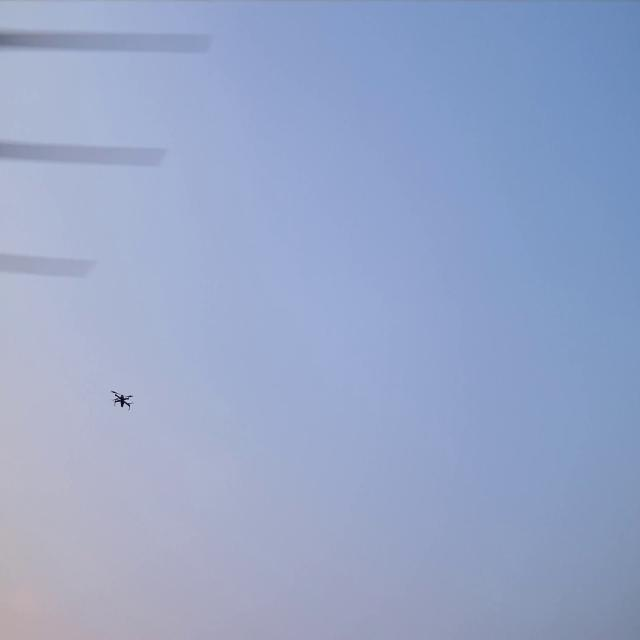UAV: (109, 388, 135, 412)
